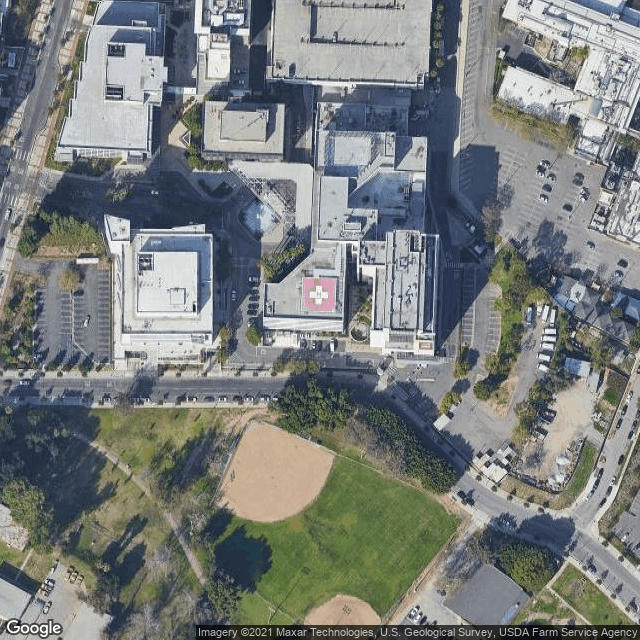Helipad: (299, 273, 339, 314)
